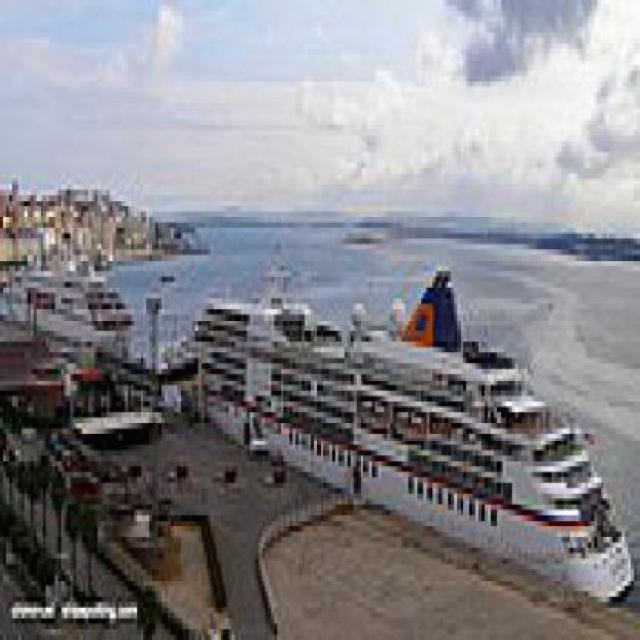cruise: (184, 250, 638, 626)
